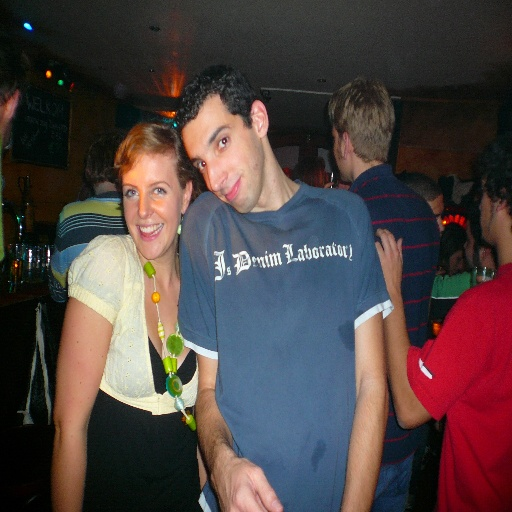hand: (184, 446, 284, 510), (373, 227, 403, 291), (323, 180, 335, 189)
